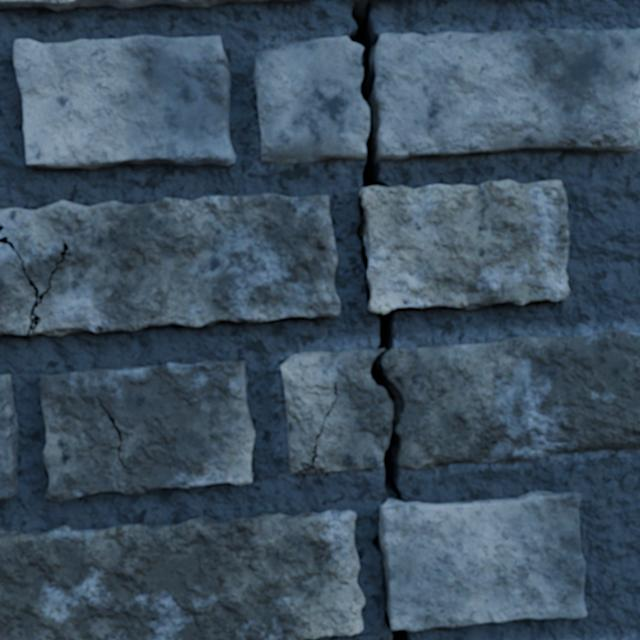broken_brick: (382, 330, 639, 468), (374, 28, 639, 159), (253, 36, 368, 163), (281, 349, 392, 473)
crack: (347, 0, 587, 639), (0, 193, 340, 336), (0, 510, 365, 639), (39, 360, 255, 501), (13, 35, 235, 169), (293, 381, 337, 473), (0, 0, 269, 10), (0, 374, 19, 499), (501, 146, 567, 149), (353, 459, 358, 466)
